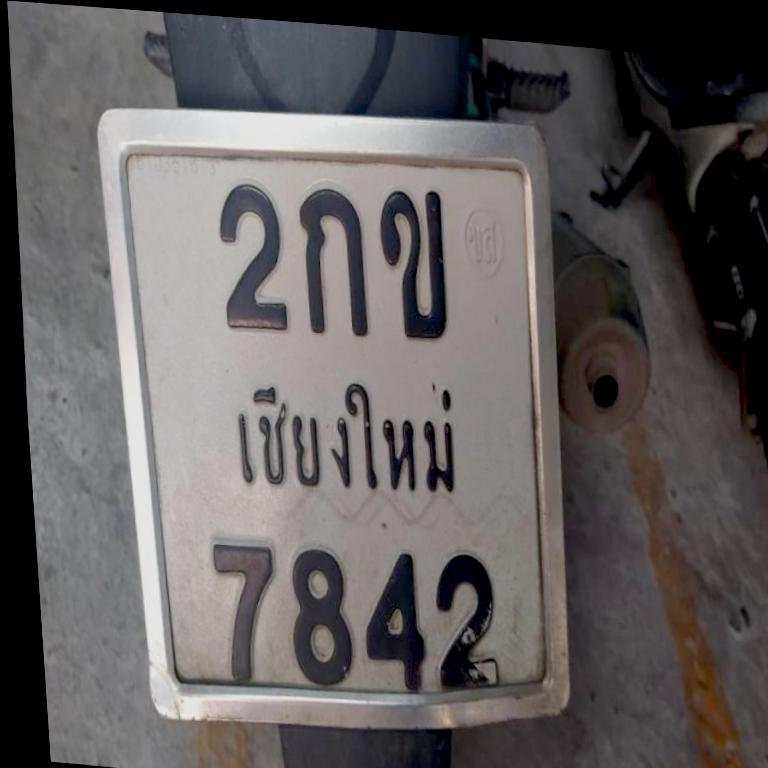license plate: (66, 76, 601, 767)
